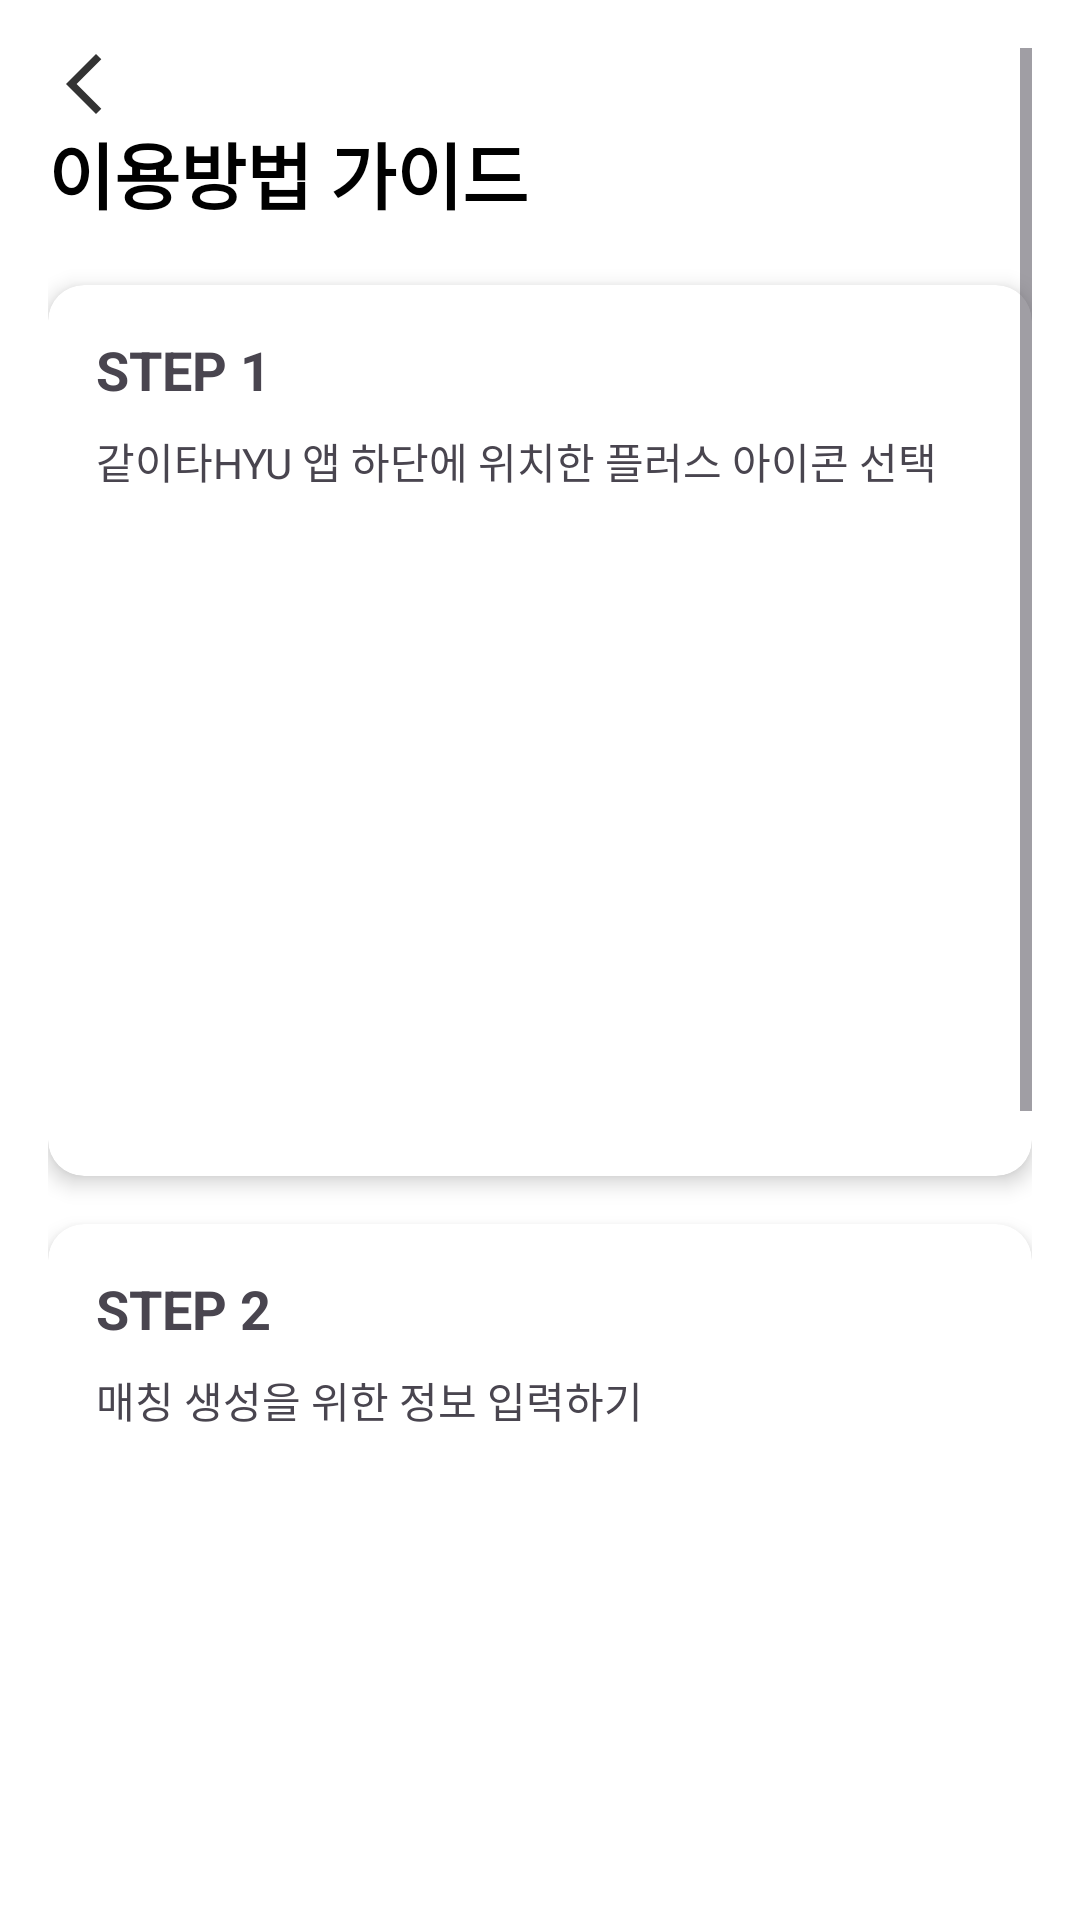

Icon bounding boxes for this 1080w x 1920h phone screenshot, format [x1, y1, x2, y2]:
뒤로 가기 버튼: [66, 54, 101, 114]
